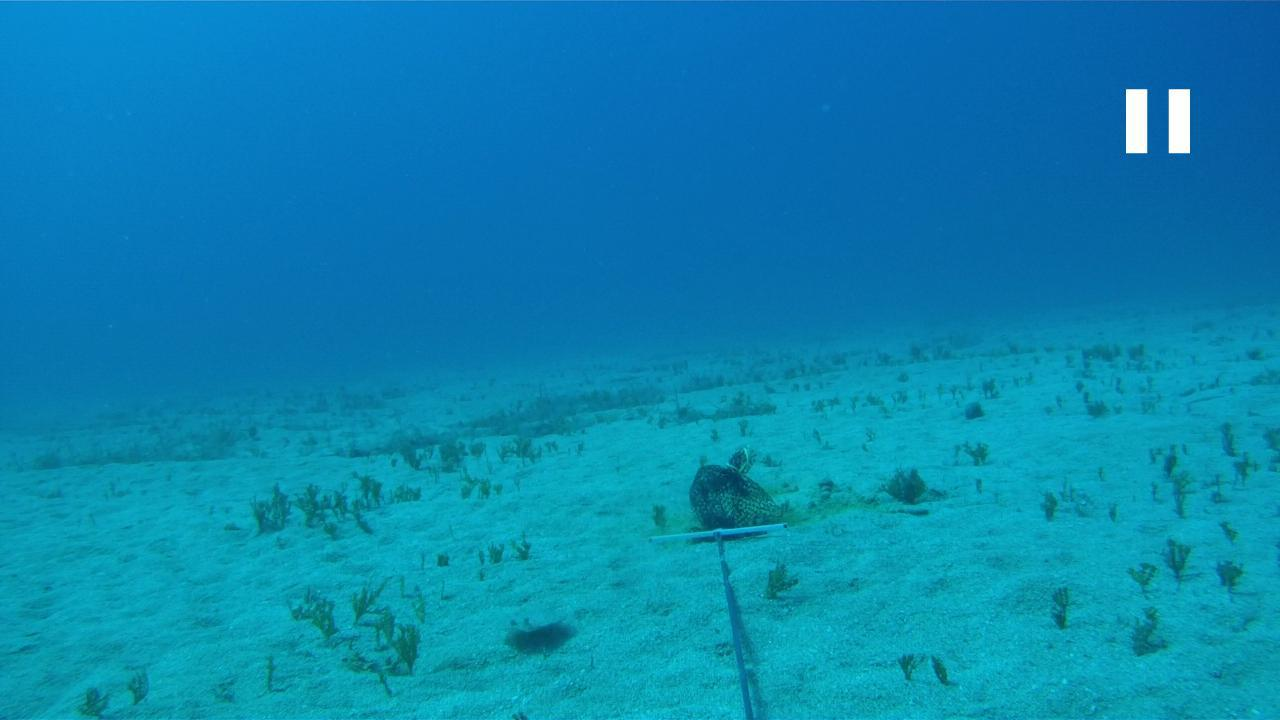bothus: (495, 600, 568, 647)
